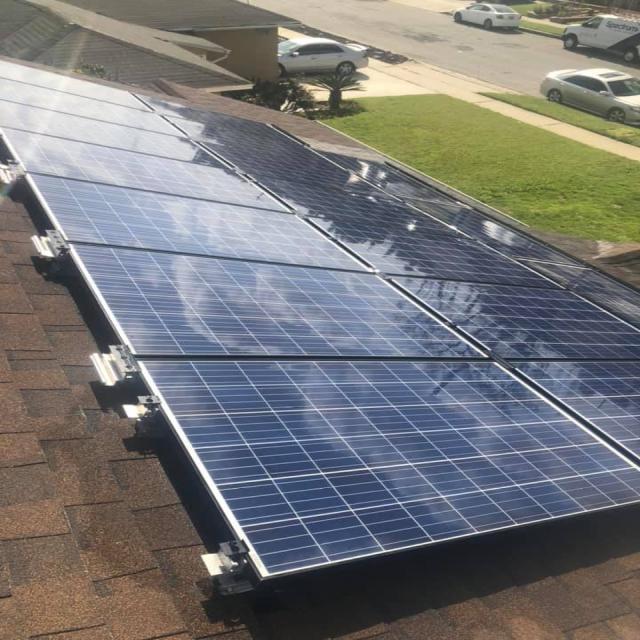clean-solar-panel: (3, 62, 637, 578)
